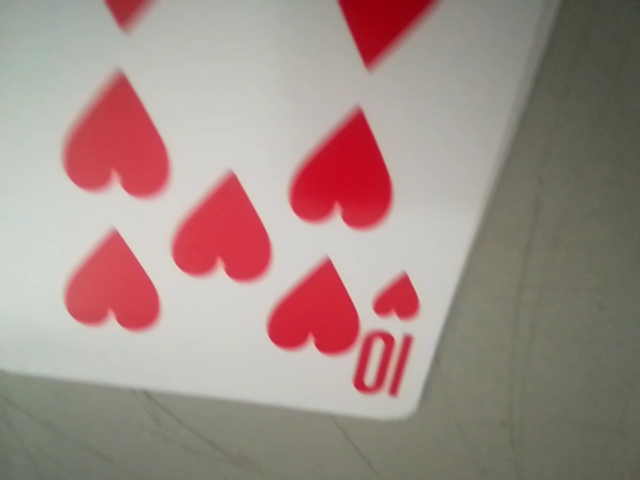hx 10: (353, 268, 423, 403)
